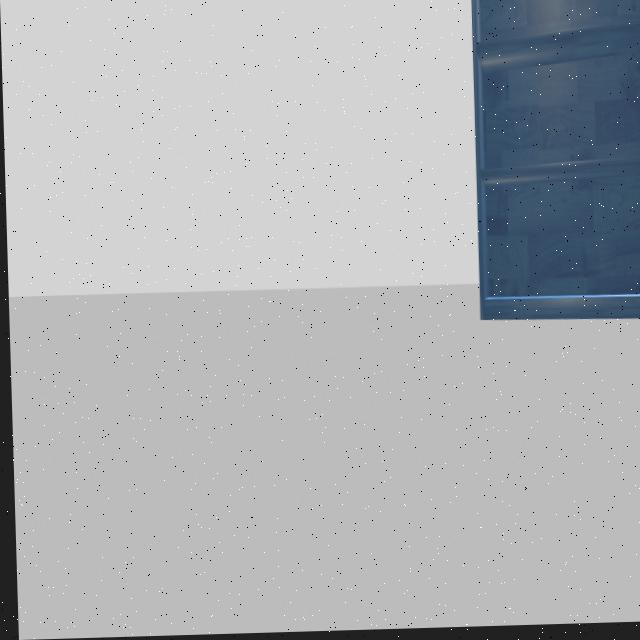shelf: (450, 0, 640, 360)
